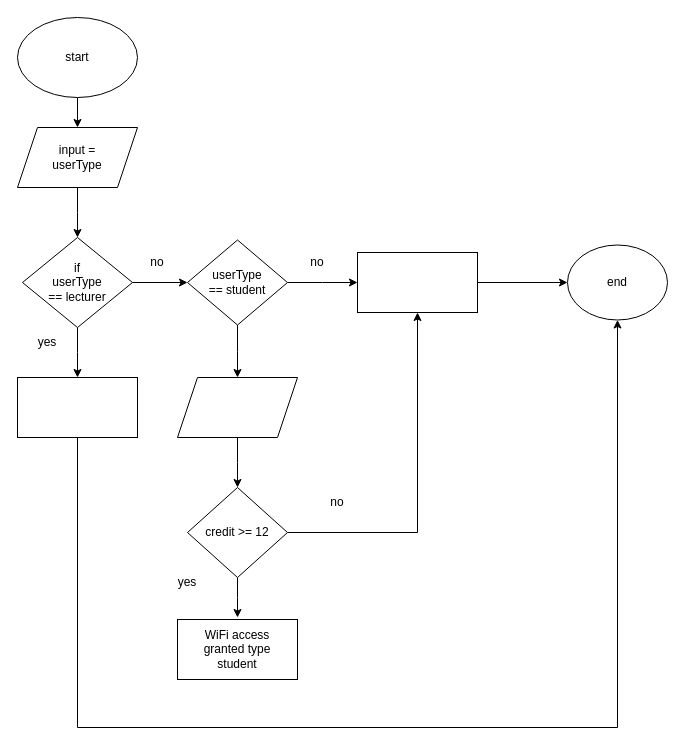
Image size: 685x753. Some labels were removed from this diagram. The box of each missing label's shape, as (x1, y1, x2, y2) in pixels:
access denied: (356, 252, 478, 312)
input student credit: (176, 376, 298, 438)
WiFi access grannted type lecturer: (16, 376, 138, 438)
